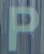Parking: (6, 2, 42, 53)
